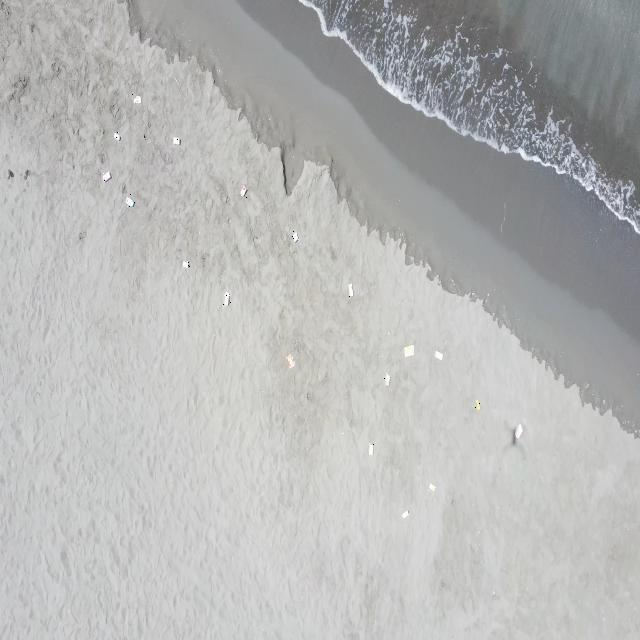retort-pouch: (404, 344, 415, 359), (126, 194, 136, 209), (285, 353, 294, 369), (102, 170, 112, 184), (132, 94, 142, 107), (223, 290, 231, 306), (515, 423, 523, 439), (434, 350, 444, 362), (240, 184, 248, 198), (384, 373, 391, 387), (292, 230, 299, 244), (173, 135, 181, 147), (368, 443, 374, 458), (348, 283, 354, 298), (475, 398, 481, 412), (401, 508, 408, 520), (182, 259, 190, 269), (428, 482, 436, 492), (114, 130, 120, 143)
